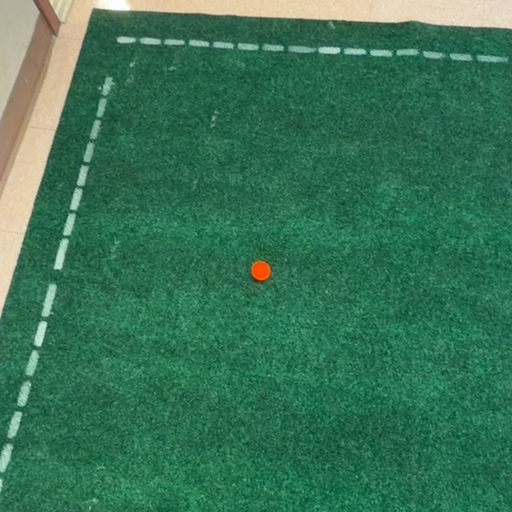Ball: (251, 260, 271, 281)
